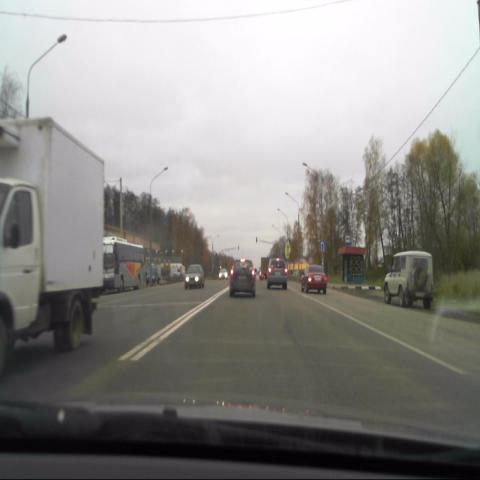5_15_5: (319, 240, 326, 252)
5_16: (344, 231, 350, 247)
